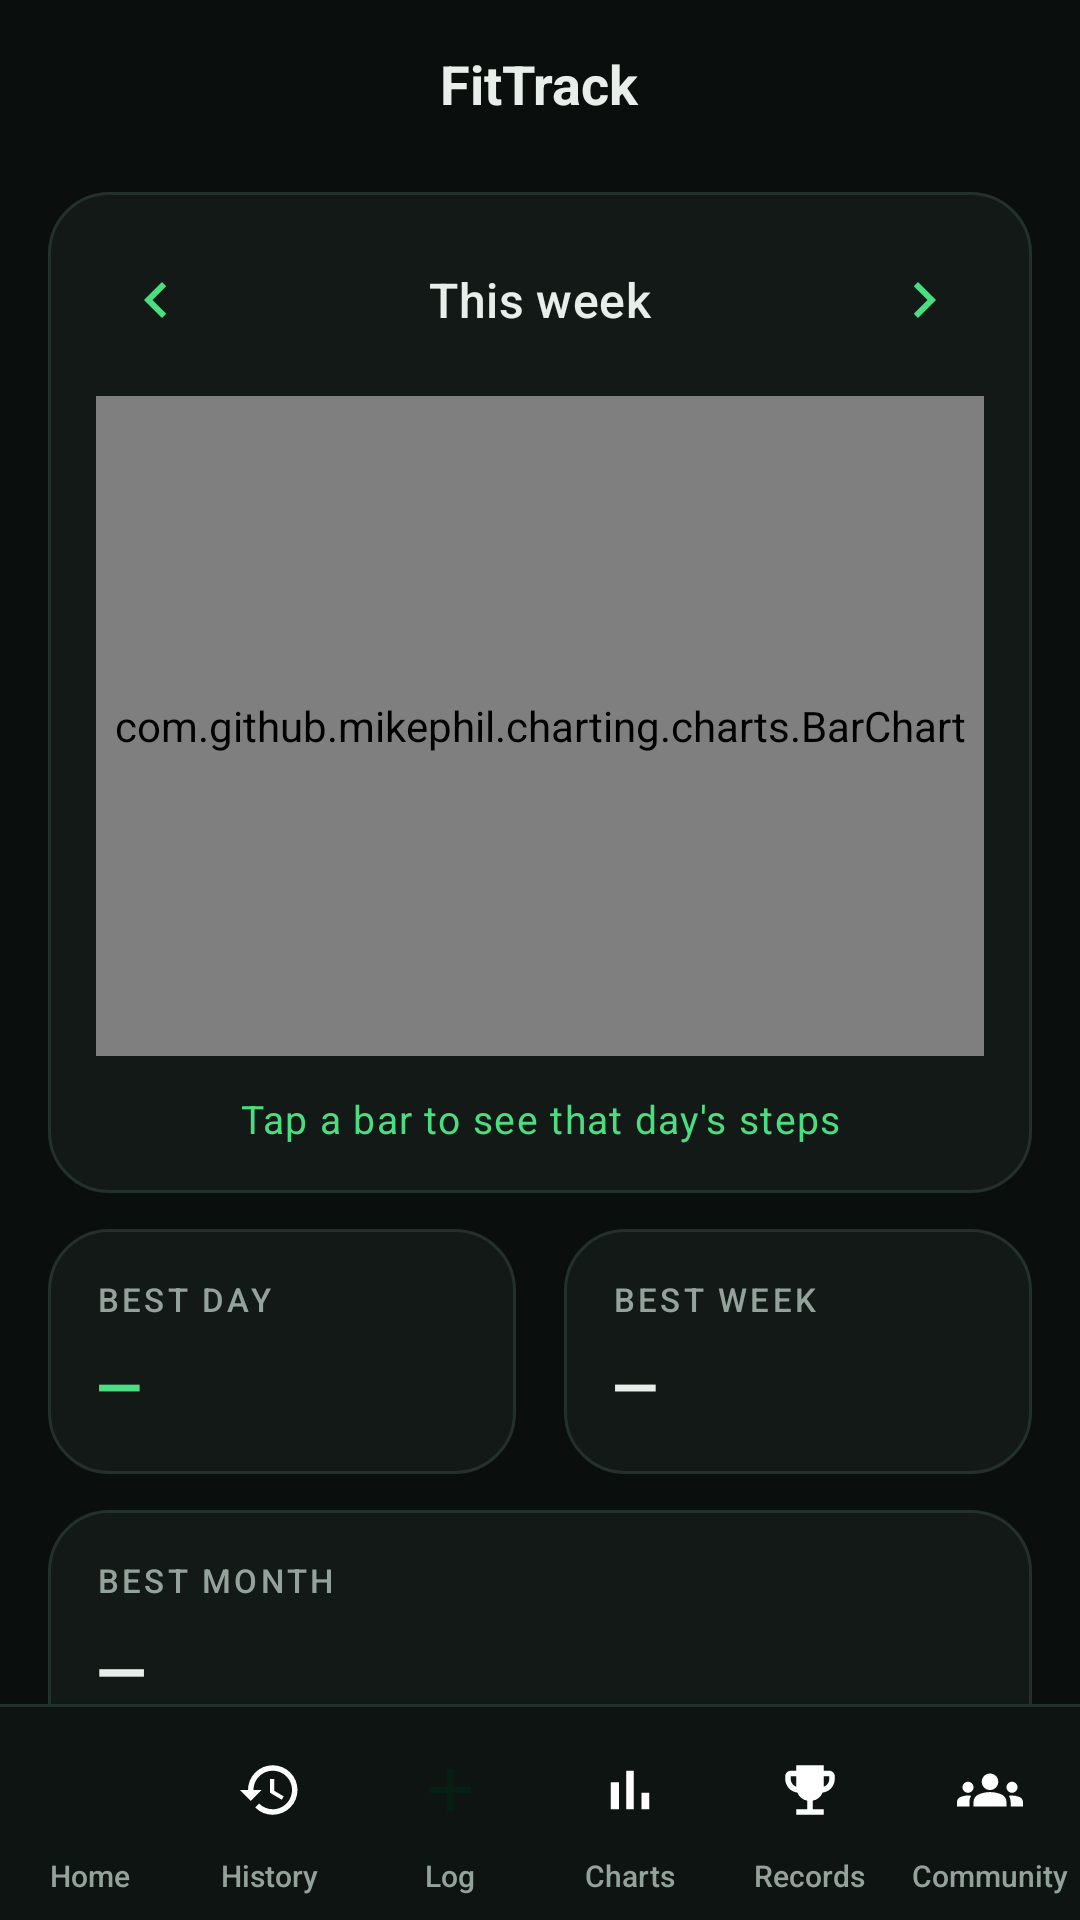

Point at icon controls on the screen. Image size 1080 x 1920, points as (x,y).
Next week: (925,300)
Previous week: (155,300)
